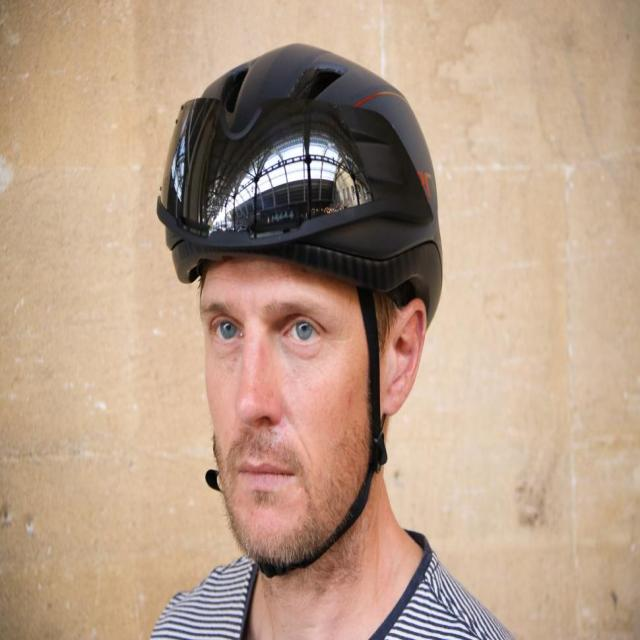illegal_helmet: (150, 38, 448, 582)
